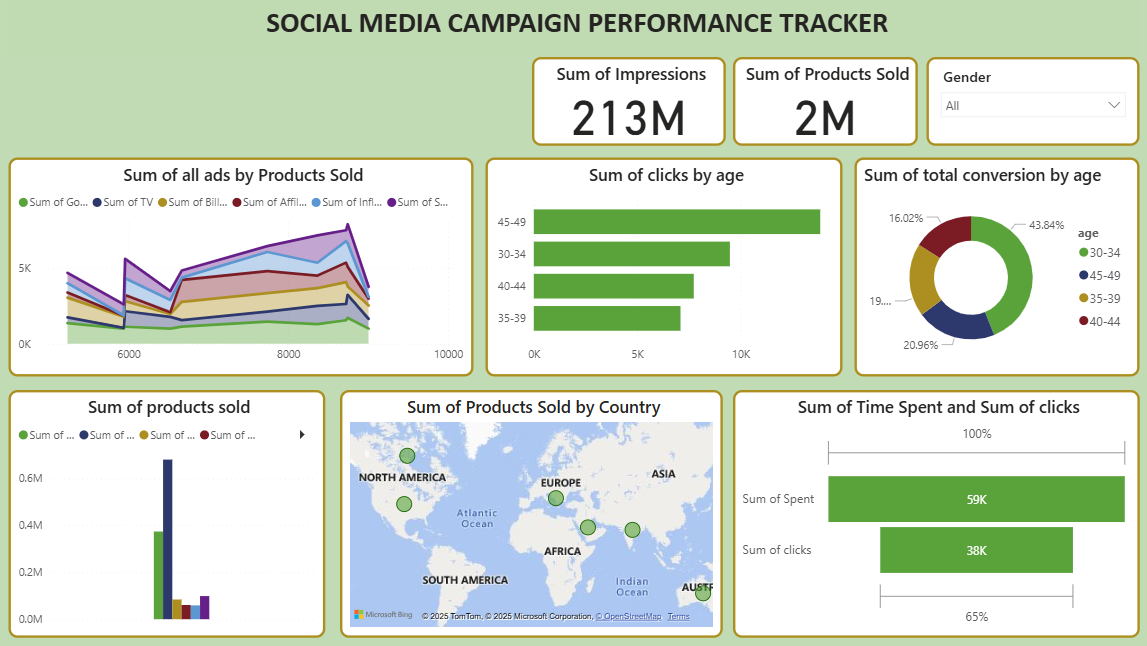

What the dashboard file says about the page in this screenshot:
{"tool":"powerbi","page":{"name":"Page 1","canvas":[1280,720],"ordinal":0},"visuals":[{"type":"clusteredColumnChart","title":"Sum of products sold ","fields":{"Y":["Sum(marketing_data.MntMeatProducts)","Sum(marketing_data.MntWines)","Sum(marketing_data.MntFishProducts)","Sum(marketing_data.MntSweetProducts)","Sum(marketing_data.MntFruits)","Sum(marketing_data.MntGoldProds)"]},"box":[11.7,433.3,351.7,275],"z":1},{"type":"map","title":"Sum of Products Sold by Country","fields":{"Category":["marketing_data.Country"],"Size":["Sum(Advertising_Data.Product_Sold)"]},"box":[380,433.3,425,275],"z":2},{"type":"funnel","title":"Sum of Time Spent and Sum of clicks","fields":{"Y":["Sum(task 2,1.Spent)","Sum(task 2,1.clicks)"]},"box":[816.7,433.3,451.7,275],"z":3},{"type":"stackedAreaChart","title":"Sum of all ads by Products Sold","fields":{"Category":["Advertising_Data.Product_Sold"],"Y":["Sum(Advertising_Data.Google_Ads)","Sum(Advertising_Data.TV)","Sum(Advertising_Data.Billboards)","Sum(Advertising_Data.Affiliate_Marketing)","Sum(Advertising_Data.Influencer_Marketing)","Sum(Advertising_Data.Social_Media)"]},"box":[11.7,175,516.7,243.3],"z":4},{"type":"slicer","fields":{"Values":["task 2,1.gender"]},"box":[1031.7,63.3,236.7,98.3],"z":5},{"type":"clusteredBarChart","fields":{"Category":["task 2,1.age"],"Y":["Sum(task 2,1.clicks)"]},"box":[541.7,175,396.7,243.3],"z":6},{"type":"donutChart","title":"Sum of total conversion by age","fields":{"Category":["task 2,1.age"],"Y":["Sum(task 2,1.total_conversion)"]},"box":[951.7,175,316.7,243.3],"z":7},{"type":"card","title":"Sum of Impressions","fields":{"Values":["Sum(task 2,1.impressions)"]},"box":[593.3,63.3,215,98.3],"z":8},{"type":"card","title":"Sum of Products Sold","fields":{"Values":["Sum(Advertising_Data.Product_Sold)"]},"box":[816.7,63.3,205,98.3],"z":9},{"type":"textbox","box":[11.7,0,1256.7,63.3],"z":10}]}

Visuals, with their boxes in screenshot pixels (x1, y1, x2, y2), scaled from the page's 1280x720 canvas onto the 1147x646 screenshot:
"Sum of products sold " clusteredColumnChart: box=[10, 389, 326, 636]
"Sum of Products Sold by Country" map: box=[341, 389, 721, 636]
"Sum of Time Spent and Sum of clicks" funnel: box=[732, 389, 1137, 636]
"Sum of all ads by Products Sold" stackedAreaChart: box=[10, 157, 473, 375]
slicer - task 2,1.gender: box=[924, 57, 1137, 145]
clusteredBarChart - task 2,1.age x Sum(task 2,1.clicks): box=[485, 157, 841, 375]
"Sum of total conversion by age" donutChart: box=[853, 157, 1137, 375]
"Sum of Impressions" card: box=[532, 57, 724, 145]
"Sum of Products Sold" card: box=[732, 57, 916, 145]
textbox: box=[10, 0, 1137, 57]
